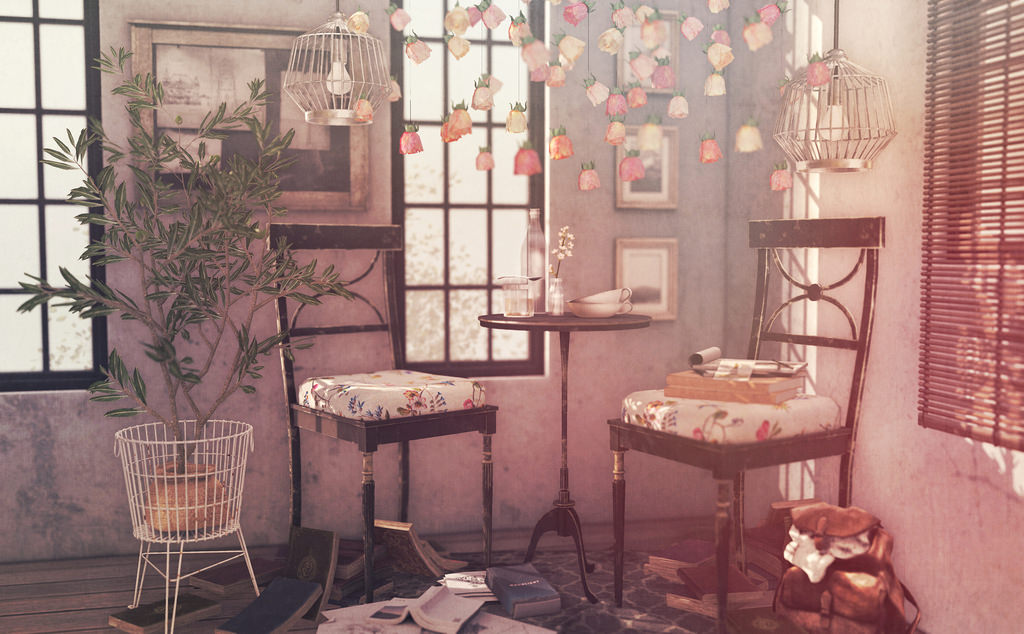glass of water: (499, 278, 534, 317)
